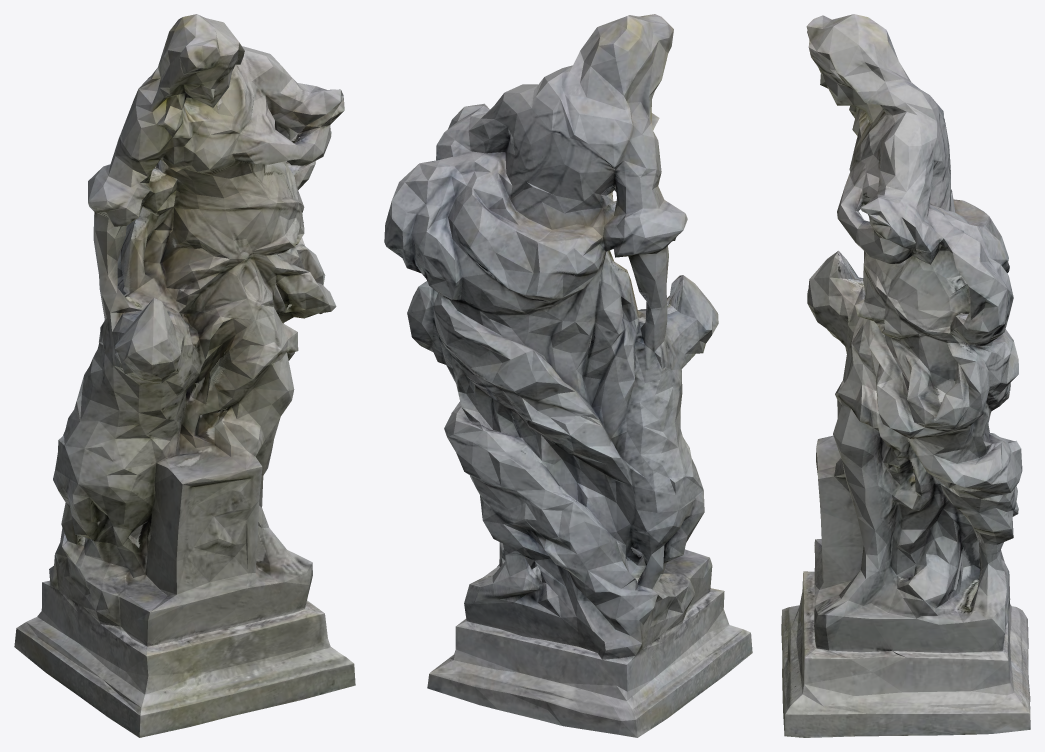
File: trpelivost.glb
3 views of the same model, side by side, from view 1: azimuth 30°, elevation 25°; view 2: azimuth 150°, elevation 25°; view 3: azimuth 270°, elevation 25° (orthographic). The views are drawn at different scales.
Parts seen in each view (by area): view 1: trpelivost-remsh; view 2: trpelivost-remsh; view 3: trpelivost-remsh.
Part boxes in pixels (<box>): trpelivost-remsh: <box>14,14,355,737</box>; trpelivost-remsh: <box>384,14,752,737</box>; trpelivost-remsh: <box>781,14,1030,737</box>.
Bounding box in the file's own units: 1.17 × 2.64 × 0.8977.
1 material, 1 textured.
